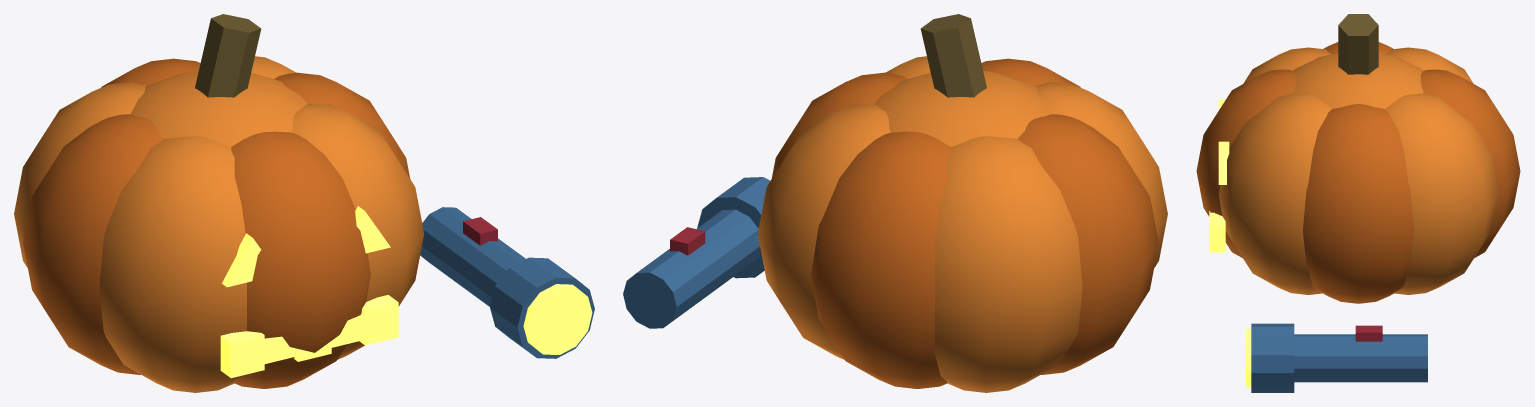
File: pumpkin.glb
The picture shows the model from 3 angles, left to right: view 1: azimuth 30°, elevation 25°; view 2: azimuth 150°, elevation 25°; view 3: azimuth 270°, elevation 25°; orthographic projection. The views are drawn at different scales.
Parts seen in each view (by area): view 1: Pumpkin_m_pumpkin, Pumpkin_m_pumpkin_dark, Torch_m_torch, Pumpkin_m_glow_glow, Pumpkin_m_stem, Torch_m_glow_glow.001, Torch_m_red_velvet; view 2: Pumpkin_m_pumpkin, Pumpkin_m_pumpkin_dark, Torch_m_torch, Pumpkin_m_stem, Torch_m_red_velvet; view 3: Pumpkin_m_pumpkin, Pumpkin_m_pumpkin_dark, Torch_m_torch, Pumpkin_m_stem, Pumpkin_m_glow_glow, Torch_m_red_velvet, Torch_m_glow_glow.001.
Part boxes in pixels (bbox=[...]): Pumpkin_m_pumpkin: bbox=[14, 56, 424, 392]; Pumpkin_m_pumpkin_dark: bbox=[23, 58, 410, 388]; Torch_m_torch: bbox=[420, 207, 594, 358]; Pumpkin_m_glow_glow: bbox=[220, 206, 398, 378]; Pumpkin_m_stem: bbox=[195, 14, 261, 97]; Torch_m_glow_glow.001: bbox=[523, 284, 592, 354]; Torch_m_red_velvet: bbox=[463, 217, 497, 245]; Pumpkin_m_pumpkin: bbox=[757, 56, 1167, 392]; Pumpkin_m_pumpkin_dark: bbox=[771, 58, 1158, 388]; Torch_m_torch: bbox=[623, 177, 770, 328]; Pumpkin_m_stem: bbox=[920, 14, 986, 97]; Torch_m_red_velvet: bbox=[670, 227, 705, 255]; Pumpkin_m_pumpkin: bbox=[1218, 47, 1498, 294]; Pumpkin_m_pumpkin_dark: bbox=[1196, 42, 1520, 303]; Torch_m_torch: bbox=[1251, 323, 1427, 392]; Pumpkin_m_stem: bbox=[1338, 14, 1378, 74]; Pumpkin_m_glow_glow: bbox=[1209, 99, 1229, 252]; Torch_m_red_velvet: bbox=[1355, 325, 1382, 341]; Torch_m_glow_glow.001: bbox=[1246, 329, 1251, 387].
Bounding box in the file's own units: 0.8175 × 0.5632 × 0.605.
